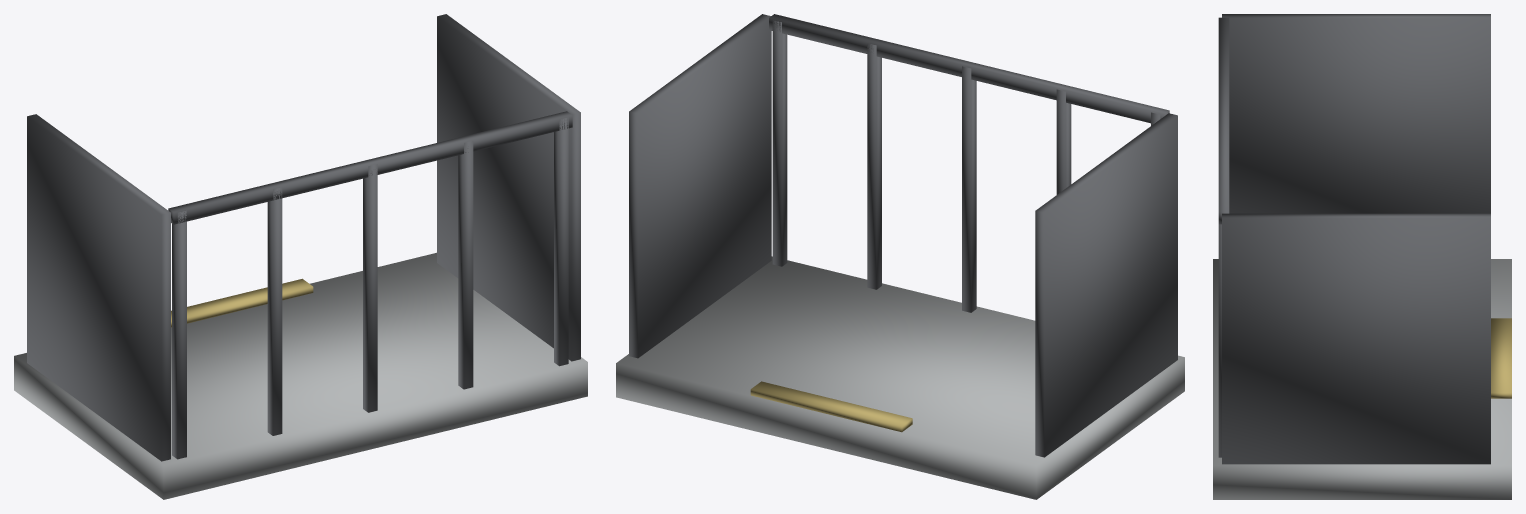
The model's file is industrial_w180_d110_door-or-window.glb.
3 views of the same model, side by side, from view 1: azimuth 30°, elevation 25°; view 2: azimuth 150°, elevation 25°; view 3: azimuth 270°, elevation 25° (orthographic).
Parts seen in each view (by area): view 1: world; view 2: world; view 3: world.
Boxes of the visible parts, box(x1,y1,x2,y2) form: world: box(14, 14, 587, 499); world: box(616, 14, 1184, 499); world: box(1213, 14, 1511, 499).
Bounding box in the file's own units: 1.8 × 1.14 × 1.1.
